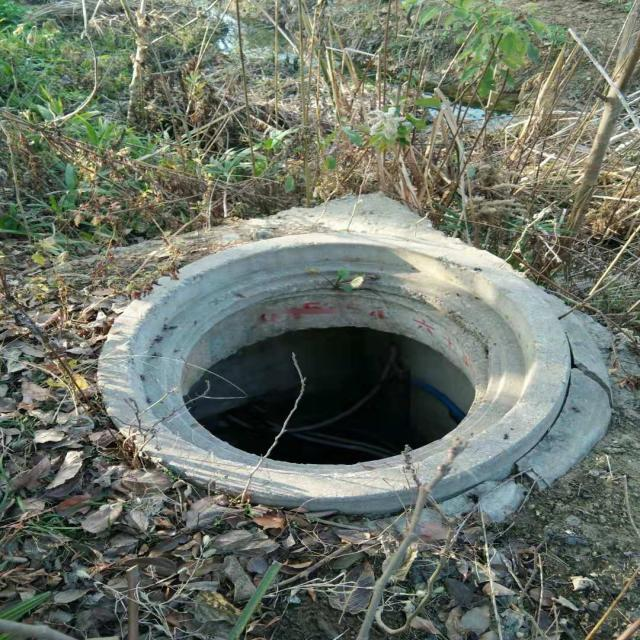Faulty: (97, 230, 572, 517)
